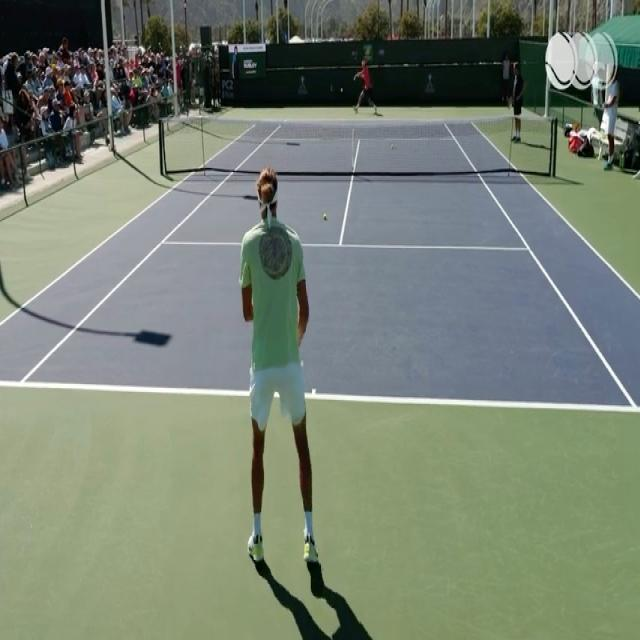ready-position: (230, 166, 332, 587)
